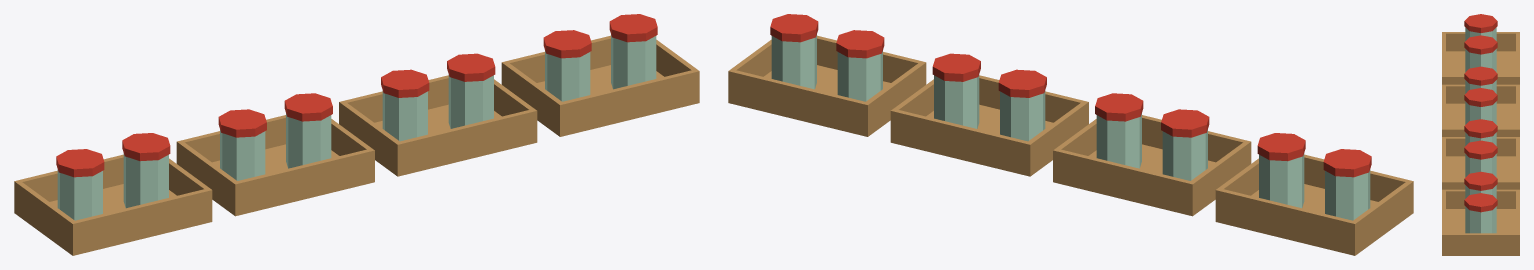
Rendered from market_food_pickles.glb.
3 renders of one model, left to right at view 1: azimuth 30°, elevation 25°; view 2: azimuth 150°, elevation 25°; view 3: azimuth 270°, elevation 25°, orthographic. The views are drawn at different scales.
Parts seen in each view (by area): view 1: crate_crate_wood, goods_jar_glass (×8), goods_jar_lid (×8); view 2: crate_crate_wood, goods_jar_glass (×8), goods_jar_lid (×8); view 3: crate_crate_wood, goods_jar_lid (×8), goods_jar_glass (×8).
Boxes of the visible parts, left/top/right/bottom form: crate_crate_wood: left=14, top=35, right=699, bottom=255; goods_jar_glass (×8): left=57, top=35, right=656, bottom=220; goods_jar_lid (×8): left=56, top=14, right=657, bottom=177; crate_crate_wood: left=728, top=35, right=1413, bottom=255; goods_jar_glass (×8): left=771, top=35, right=1370, bottom=220; goods_jar_lid (×8): left=770, top=14, right=1371, bottom=177; crate_crate_wood: left=1442, top=32, right=1519, bottom=255; goods_jar_lid (×8): left=1464, top=14, right=1497, bottom=212; goods_jar_glass (×8): left=1465, top=27, right=1496, bottom=233.
Size of the model in its own units: 2.47 by 0.25 by 0.4.
